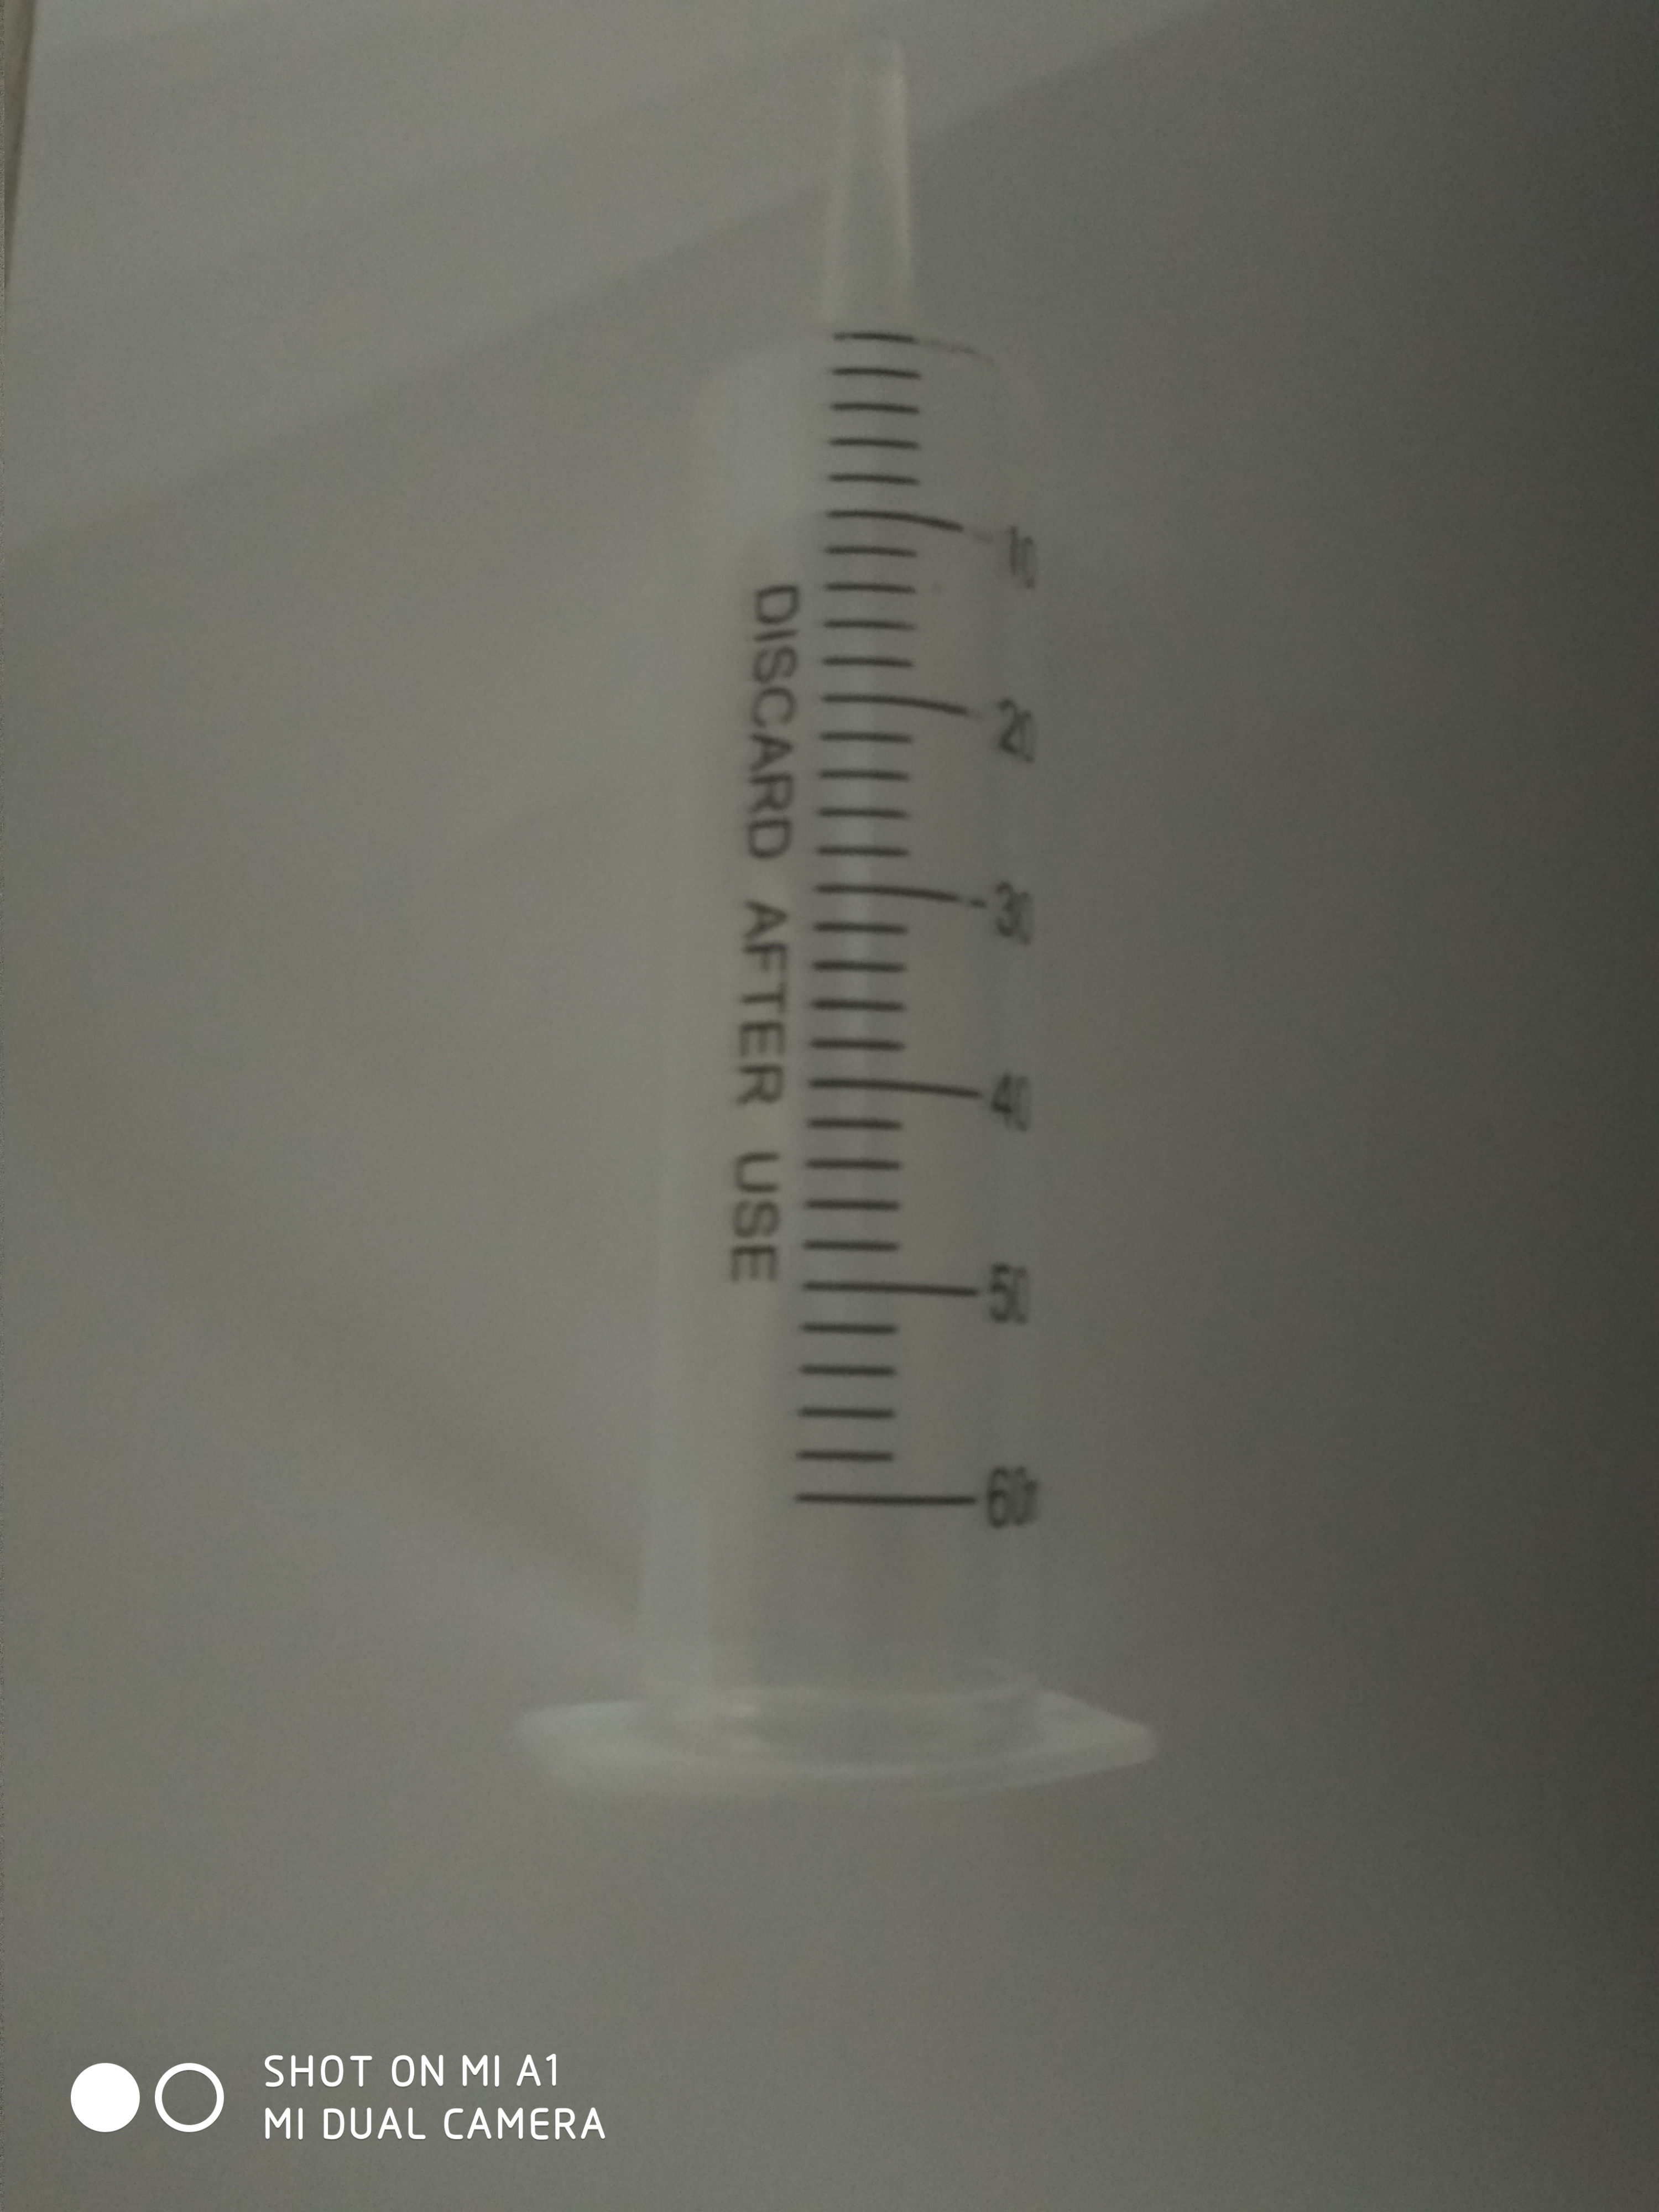syringe: (507, 37, 1188, 1806)
